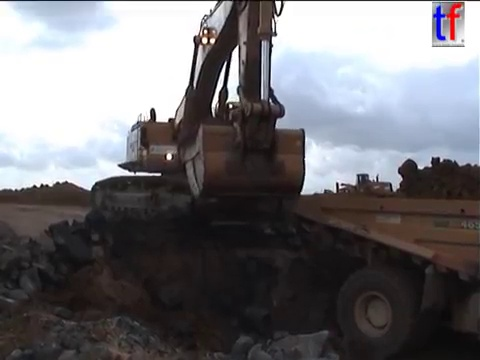excavator: (87, 1, 309, 229)
truck: (279, 190, 480, 360)
wheel loader: (320, 171, 397, 208)
